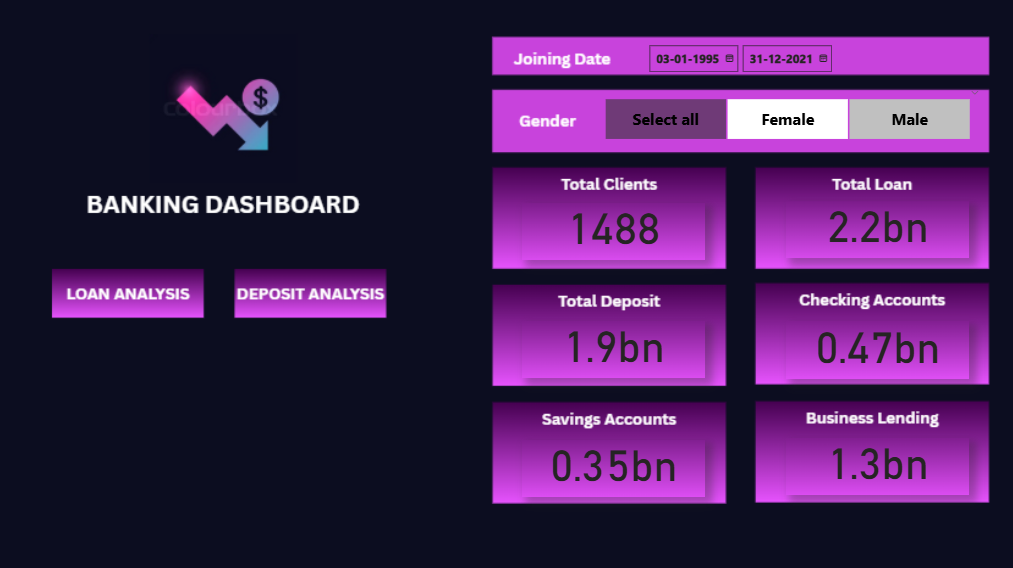

The dashboard page shown, as its layout file describes it:
{"tool":"powerbi","page":{"name":"Home","canvas":[1280,720],"ordinal":0},"visuals":[{"type":"card","fields":{"Values":["banking-clients.Name"]},"box":[660,254,230,72],"z":0},{"type":"card","fields":{"Values":["banking-clients.Business Lending"]},"box":[993.3,551.7,230,71.7],"z":1000},{"type":"card","fields":{"Values":["banking-clients.Saving Accounts"]},"box":[660,552,230,72],"z":2000},{"type":"card","fields":{"Values":["banking-clients.Checking Accounts"]},"box":[993.3,403.3,230,73.3],"z":3000},{"type":"card","fields":{"Values":["banking-clients.TOTAL Deposit"]},"box":[660,404,230,72],"z":4000},{"type":"card","fields":{"Values":["banking-clients.Total Loan"]},"box":[993.3,253.3,230,71.7],"z":5000},{"type":"slicer","fields":{"Values":["banking-clients.GenderId"]},"box":[740,110,508,72],"z":6000},{"type":"slicer","fields":{"Values":["banking-clients.Joined Bank"]},"box":[808.3,46.7,338.3,46.7],"z":7000},{"type":"actionButton","box":[313.3,285,195,63.3],"z":10000},{"type":"actionButton","box":[69.8,339.6,196.2,64.2],"z":10001},{"type":"actionButton","box":[294.3,339.6,198.1,64.2],"z":10002}]}

Visuals, with their boxes in screenshot pixels (x1, y1, x2, y2), scaled from the page's 1280x720 canvas onto the 1013x568 screenshot:
card - banking-clients.Name: [522, 200, 704, 257]
card - banking-clients.Business Lending: [786, 435, 968, 492]
card - banking-clients.Saving Accounts: [522, 435, 704, 492]
card - banking-clients.Checking Accounts: [786, 318, 968, 376]
card - banking-clients.TOTAL Deposit: [522, 319, 704, 376]
card - banking-clients.Total Loan: [786, 200, 968, 256]
slicer - banking-clients.GenderId: [586, 87, 988, 144]
slicer - banking-clients.Joined Bank: [640, 37, 907, 74]
actionButton: [248, 225, 402, 275]
actionButton: [55, 268, 211, 319]
actionButton: [233, 268, 390, 319]
